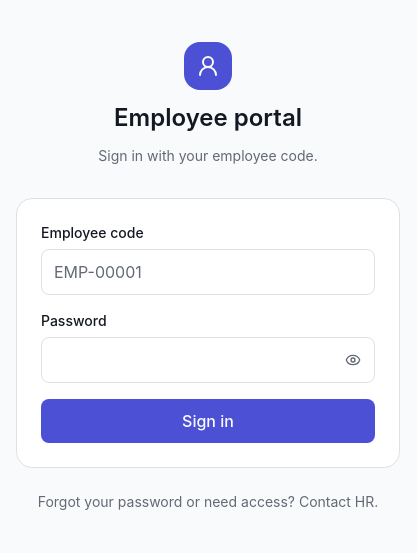
Test: LoginPage › validates before sending anything
The width and height of the screenshot is (417, 553).
Click the button "Sign in" at [208, 421], box [41, 399, 375, 443]
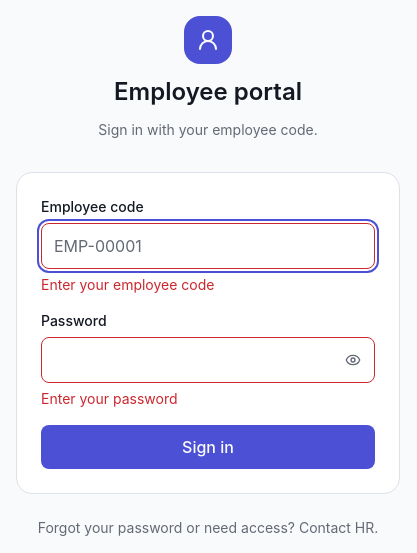
Check: the text "Enter your employee code" is shown, box [41, 276, 214, 293]
Check: the text "Enter your password" is shown, box [41, 390, 178, 407]
